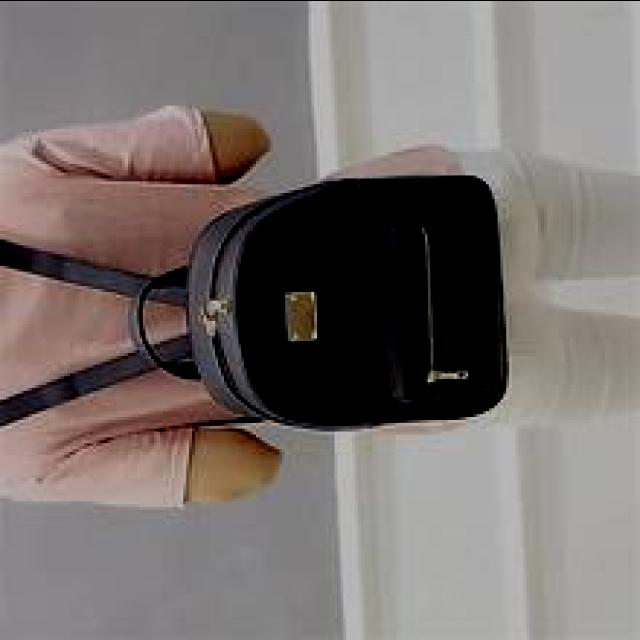backpack: (1, 173, 507, 443)
